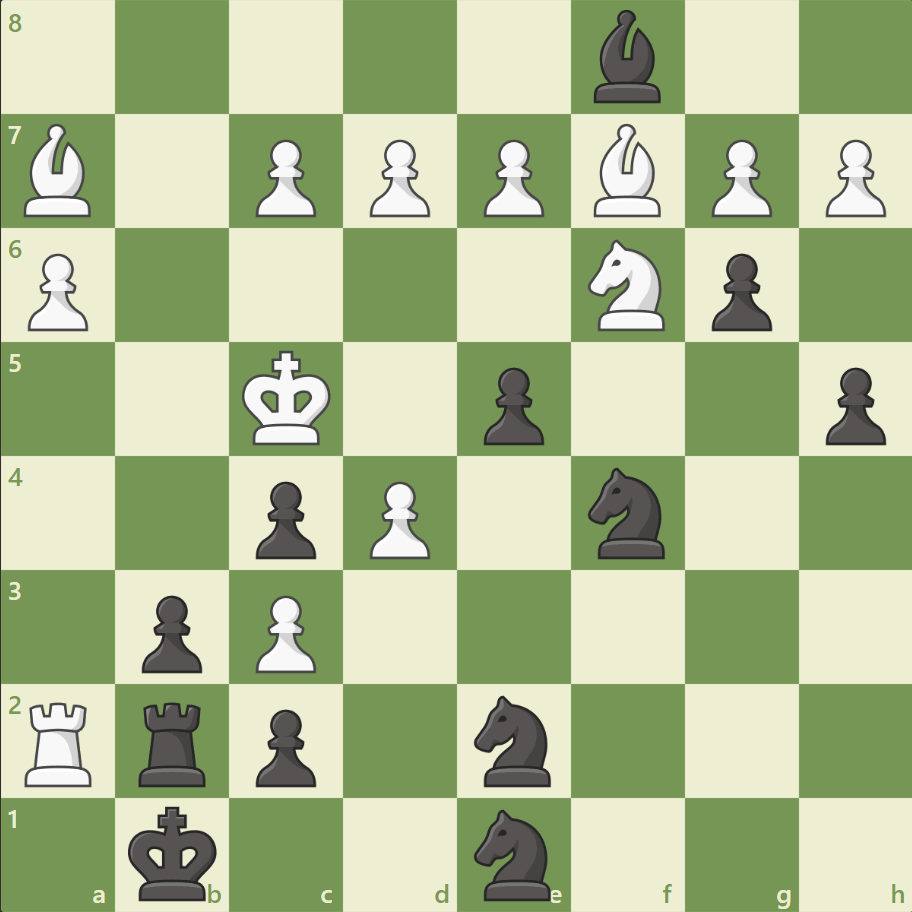B: (17, 120, 101, 222), (585, 120, 669, 222)
K: (238, 344, 338, 452)
N: (579, 234, 676, 337)
P: (247, 132, 322, 223), (474, 132, 549, 223), (701, 132, 776, 223), (20, 246, 95, 337), (247, 586, 322, 677), (361, 132, 435, 223), (815, 132, 889, 223), (361, 473, 435, 564)
R: (19, 693, 102, 790)
b: (585, 6, 669, 109)
k: (124, 798, 224, 906)
n: (579, 461, 676, 564), (465, 688, 562, 791), (465, 802, 562, 904)
p: (701, 246, 776, 337), (474, 359, 549, 450), (247, 473, 322, 564), (133, 586, 208, 677), (247, 700, 322, 791), (815, 359, 889, 450)
r: (133, 693, 215, 790)
